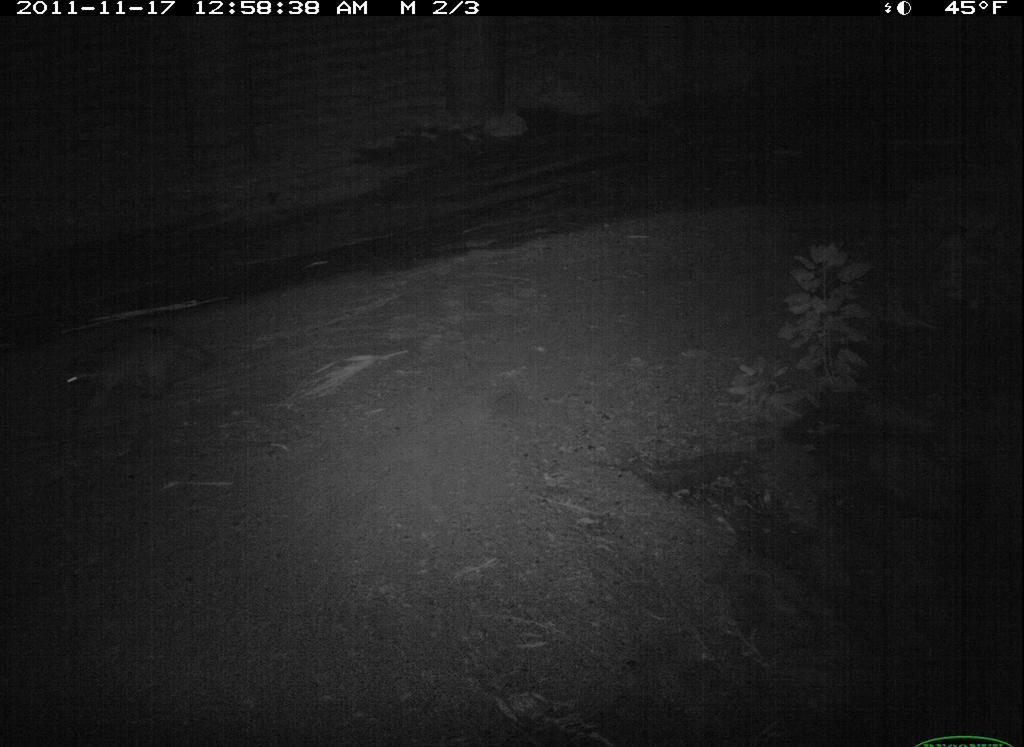raccoon: (53, 321, 217, 424)
